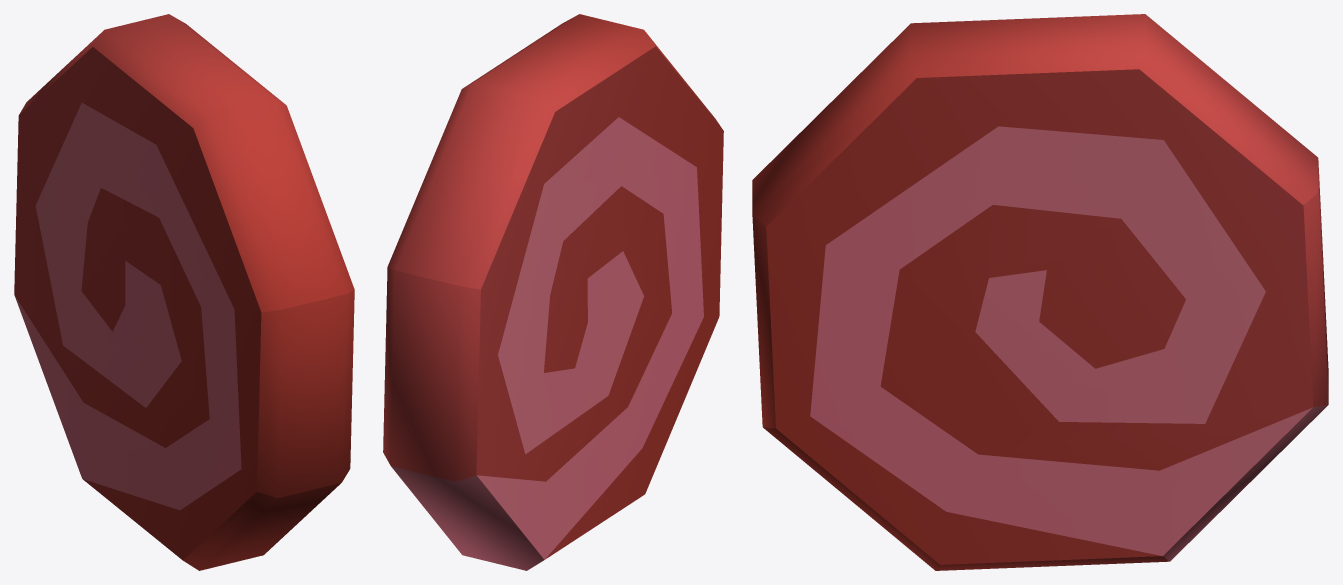
Rendered from candy.fbx.
The picture shows the model from 3 angles, left to right: view 1: azimuth 30°, elevation 25°; view 2: azimuth 150°, elevation 25°; view 3: azimuth 270°, elevation 25°; orthographic projection. The views are drawn at different scales.
Parts seen in each view (by area): view 1: Cube.059; view 2: Cube.059; view 3: Cube.059.
Boxes of the visible parts, x1,y1,x2,y2 form: Cube.059: (14,14,354,570); Cube.059: (383,14,723,570); Cube.059: (752,14,1328,570).
Size of the model in its own units: 44.09 by 213 by 213.
